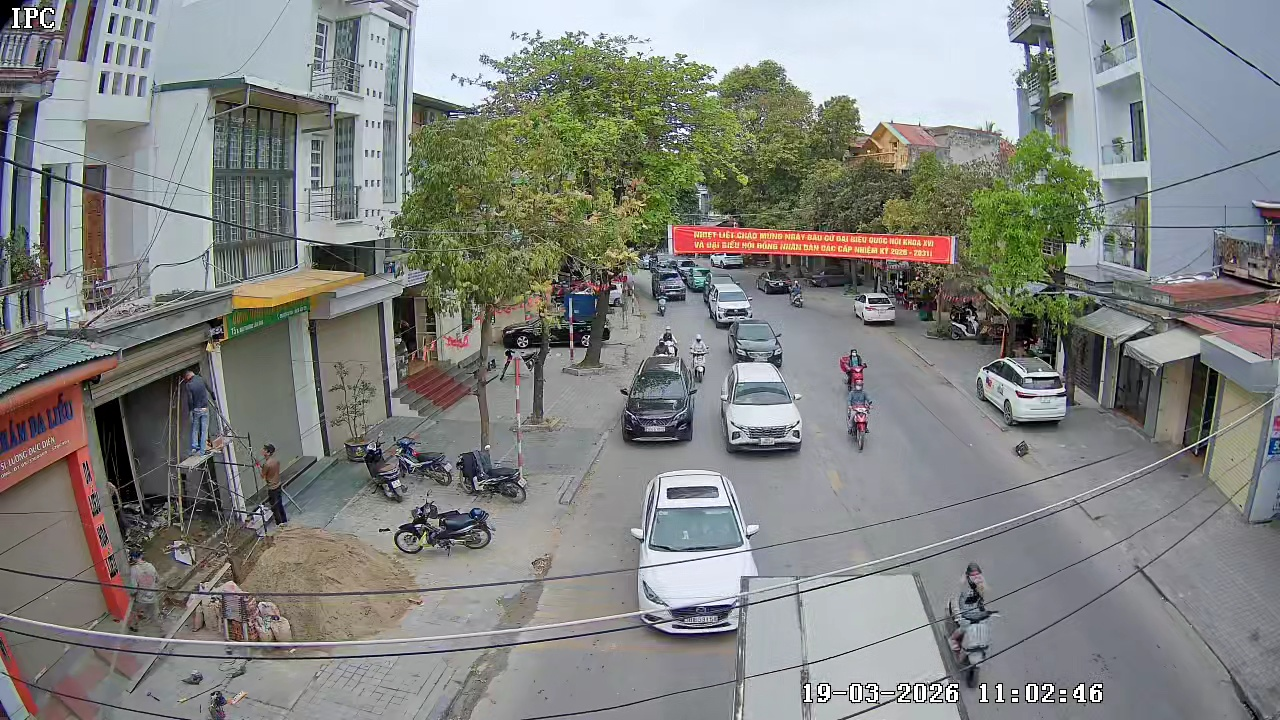car: (631, 467, 760, 638), (717, 362, 804, 455), (975, 353, 1070, 429), (620, 357, 700, 444), (727, 317, 785, 366), (707, 284, 752, 328), (855, 292, 897, 326)
motorbike: (942, 561, 997, 683), (393, 493, 497, 556), (455, 437, 530, 503), (845, 383, 874, 451), (838, 346, 867, 390), (690, 331, 708, 385), (655, 329, 680, 360), (656, 287, 668, 314), (790, 285, 803, 308)
pedestrian: (243, 441, 290, 534), (123, 549, 158, 633)
truck: (728, 317, 785, 367)
